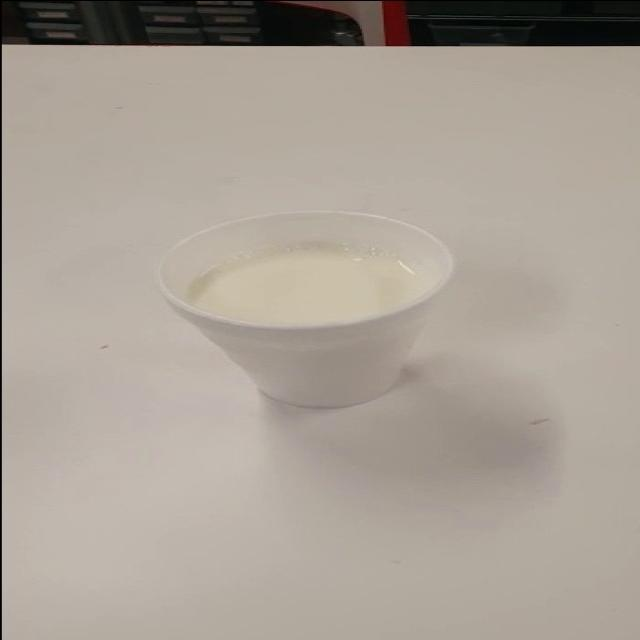Milk: (154, 203, 469, 417)
